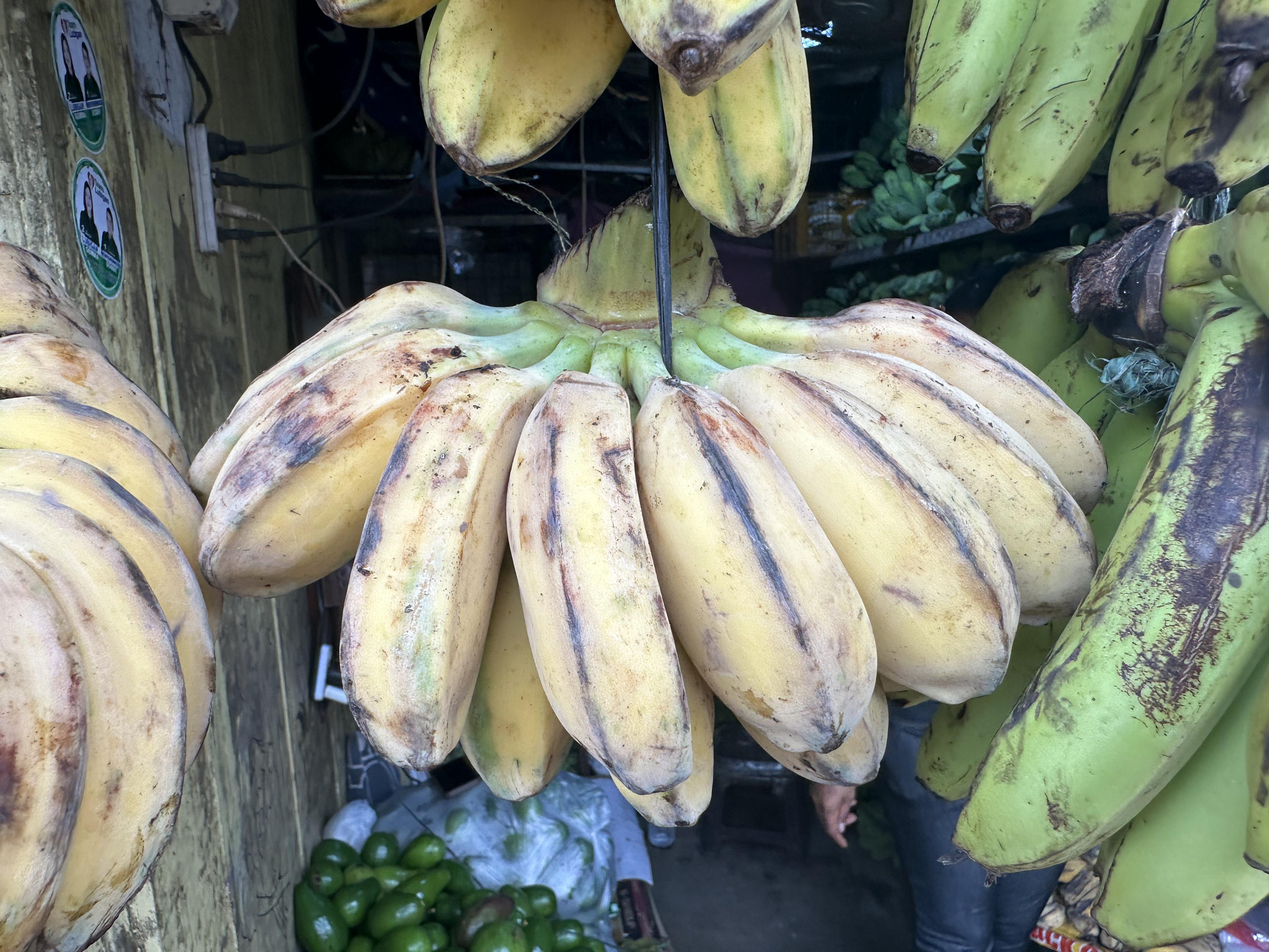ripe: (190, 282, 1106, 826), (0, 243, 222, 950)
